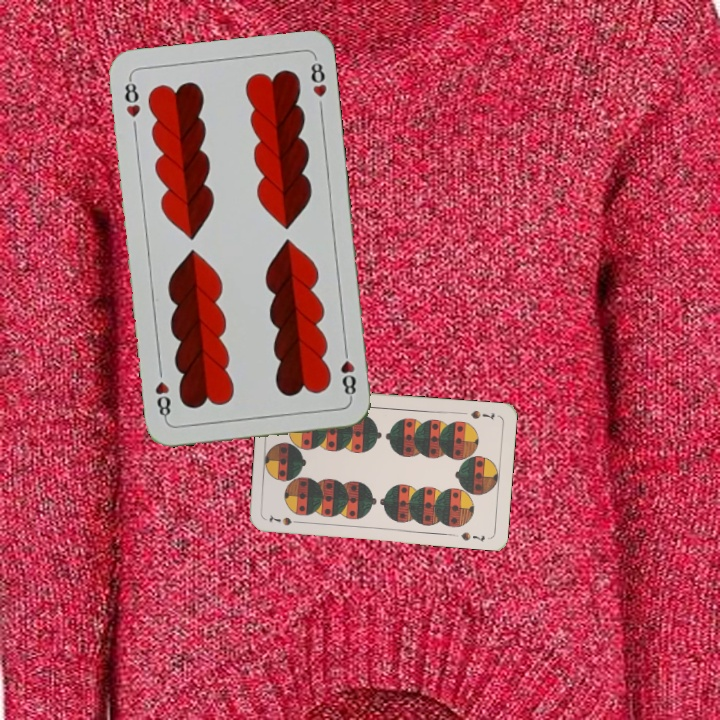H8: (337, 343, 359, 402), (121, 74, 143, 120)
S7: (265, 511, 304, 528), (467, 406, 497, 423)
